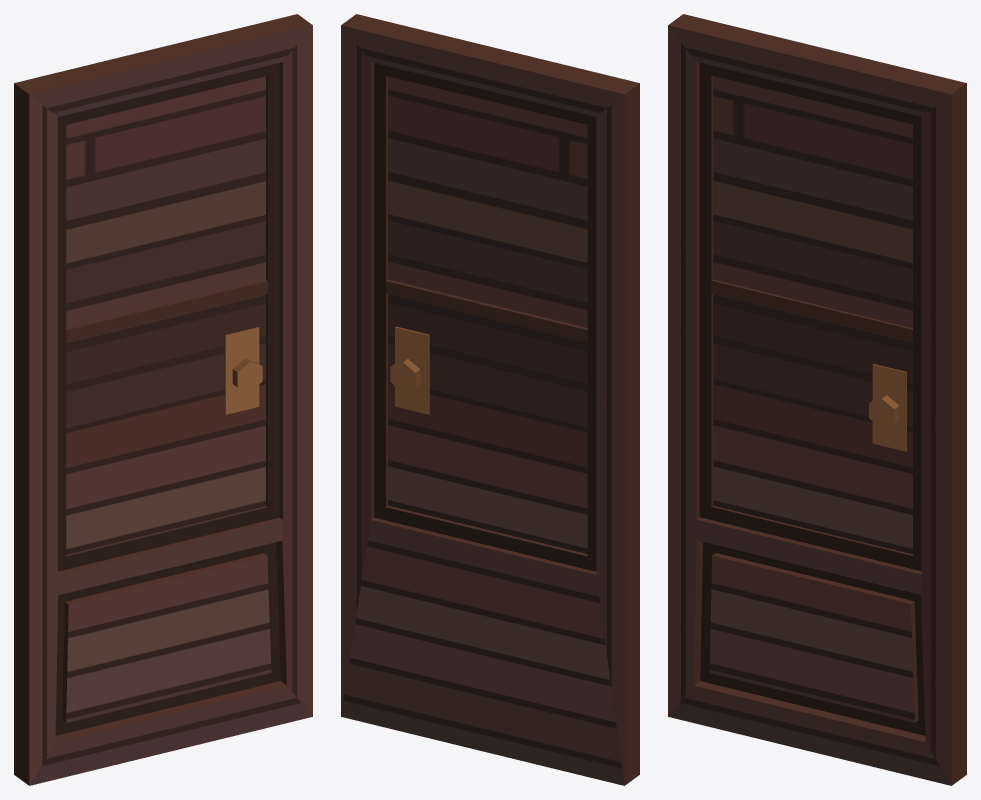
Rendered from Door 4.glb.
3 views of the same model, side by side, from view 1: azimuth 30°, elevation 25°; view 2: azimuth 150°, elevation 25°; view 3: azimuth 330°, elevation 25° (orthographic).
Parts seen in each view (by area): view 1: Door 4A; view 2: Door 4A; view 3: Door 4A.
Part boxes in pixels (x1,y1,x2,y2): Door 4A: (14, 14, 312, 785); Door 4A: (341, 14, 639, 785); Door 4A: (668, 14, 966, 785).
Size of what is drawn, in the model's own units: 0.9761 by 2.27 by 0.1391.
2 materials, 2 textured.
